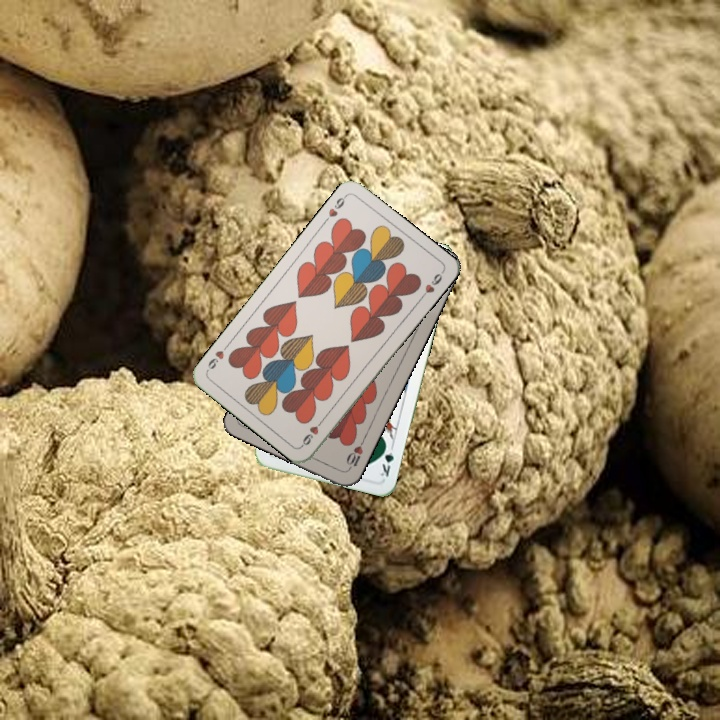GK: (376, 440, 396, 479)
H10: (342, 435, 367, 473)
H9: (297, 414, 327, 449), (320, 191, 349, 226)
